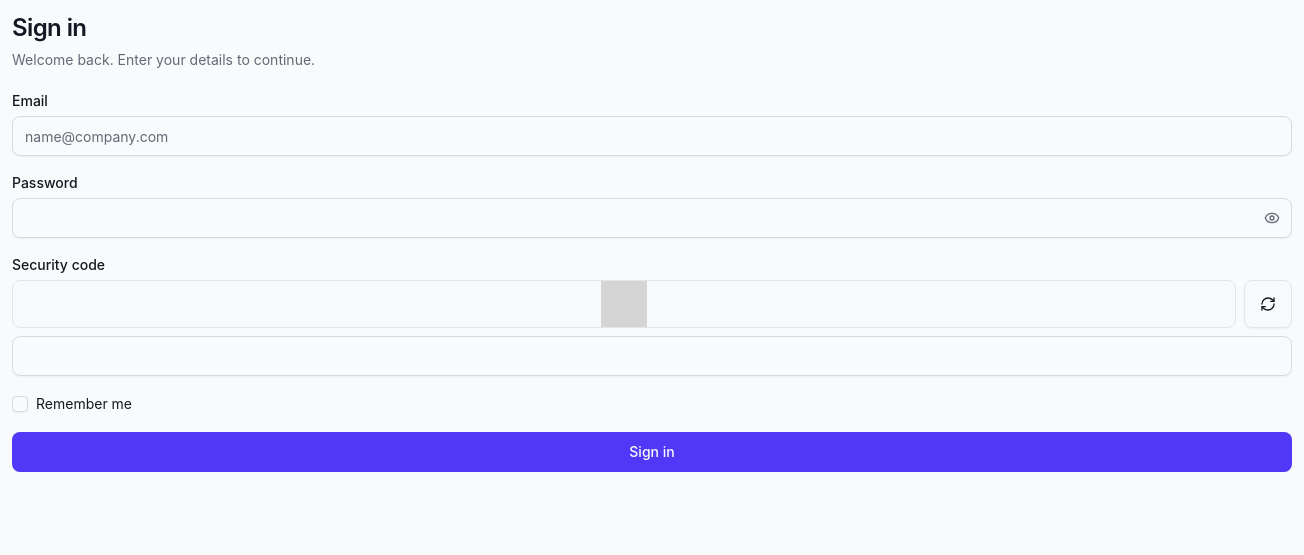
Test: SignInForm › reports an unexpected failure separately from wrong credentials
The image size is (1304, 555).
In the field labelled "Email": (652, 136) [12,116,1292,156], type "ada@example.com"
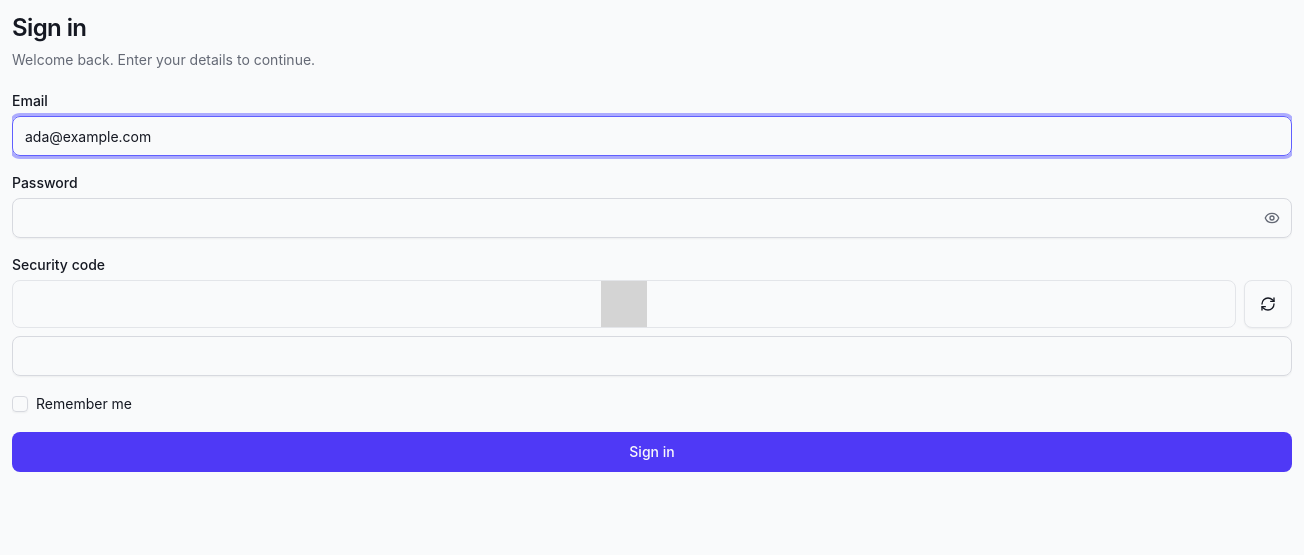
In the password field labelled "Password": (652, 218) [12,198,1292,238], type "password123"
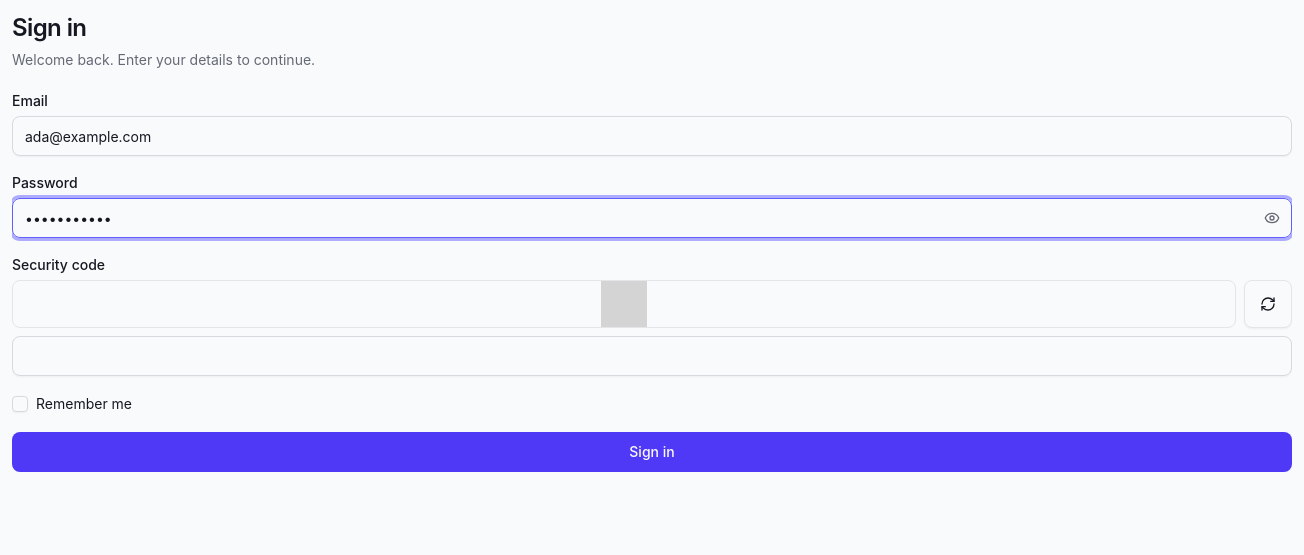
In the field labelled "Security code": (652, 356) [12,336,1292,376], type "QZWL"
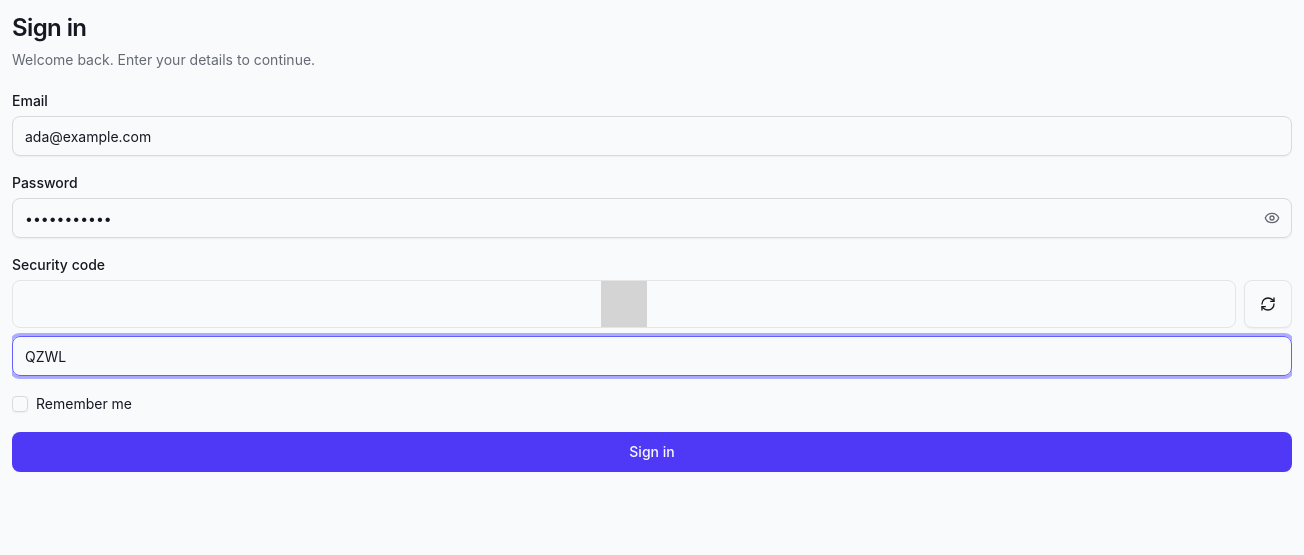
Click the button "Sign in": (652, 452) [12,432,1292,472]
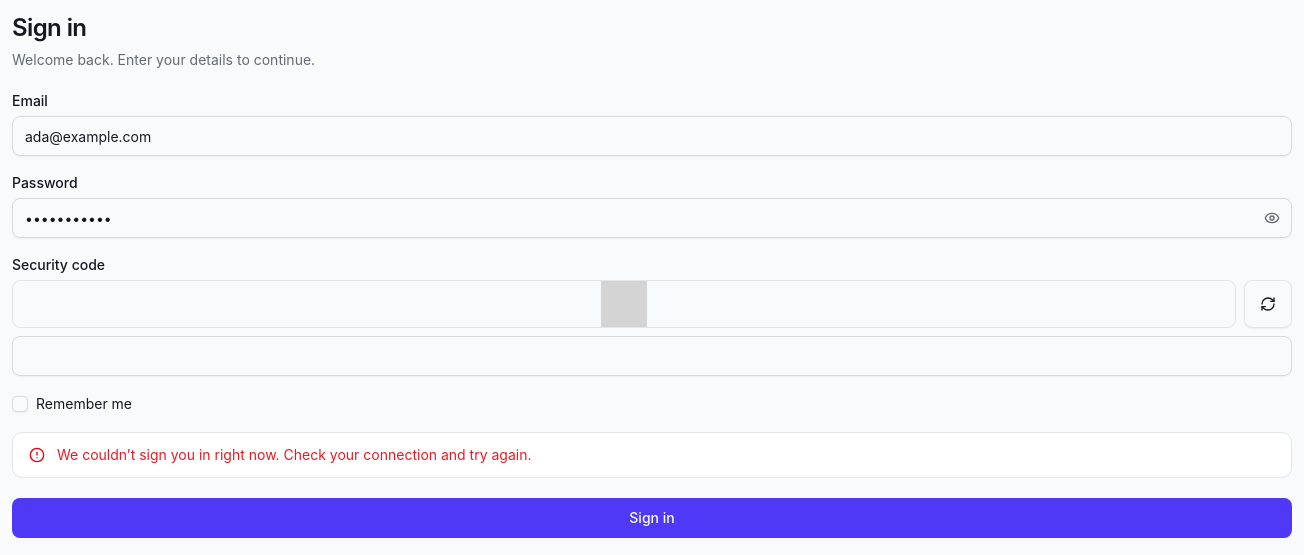
Check: the message reads "We couldn’t sign you in right now. Check your connection and try again.", box [57,446,532,463]
